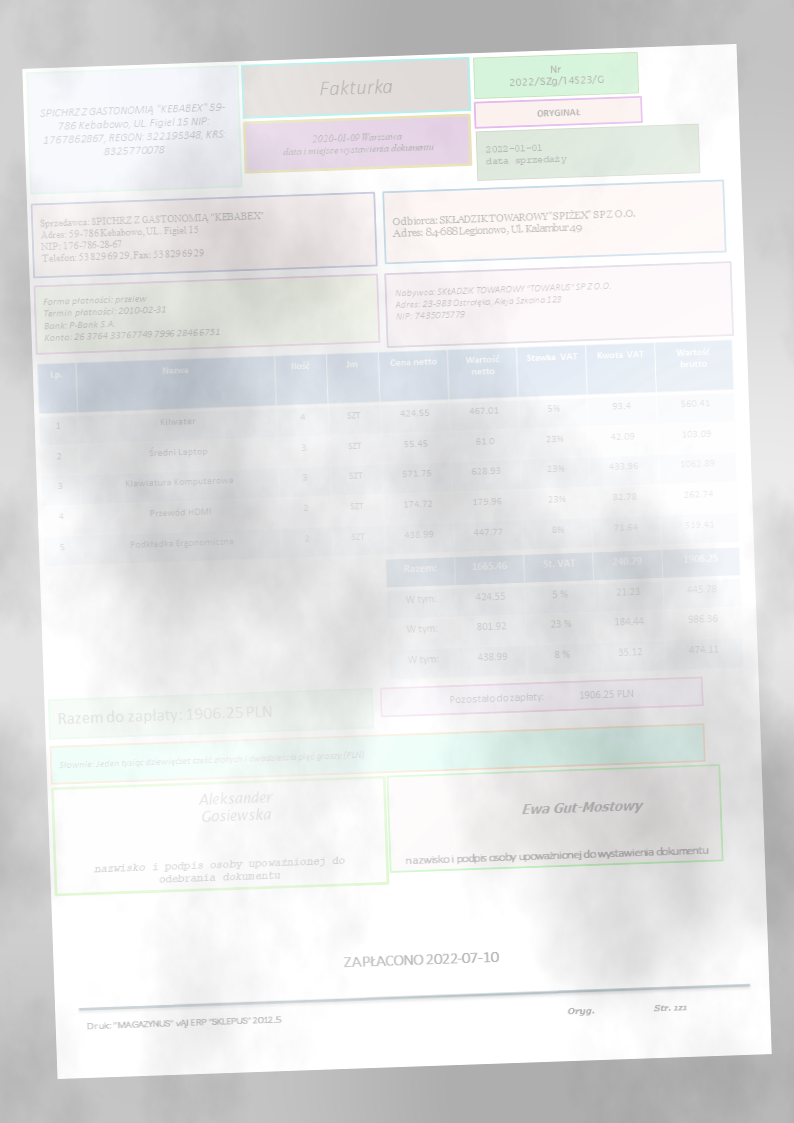Table: (35, 339, 740, 568), (384, 546, 744, 680)
TextBox: (37, 207, 268, 266), (34, 99, 229, 162), (39, 289, 223, 344), (391, 279, 614, 323), (388, 205, 637, 241), (91, 853, 346, 888), (402, 843, 710, 869), (57, 748, 366, 771), (55, 701, 274, 729), (280, 128, 436, 159), (82, 1013, 284, 1033), (340, 947, 501, 972), (448, 686, 634, 706), (519, 796, 646, 821), (196, 788, 278, 826), (506, 60, 606, 90), (483, 140, 569, 169), (564, 1000, 690, 1018), (316, 77, 394, 100), (533, 105, 582, 119)
